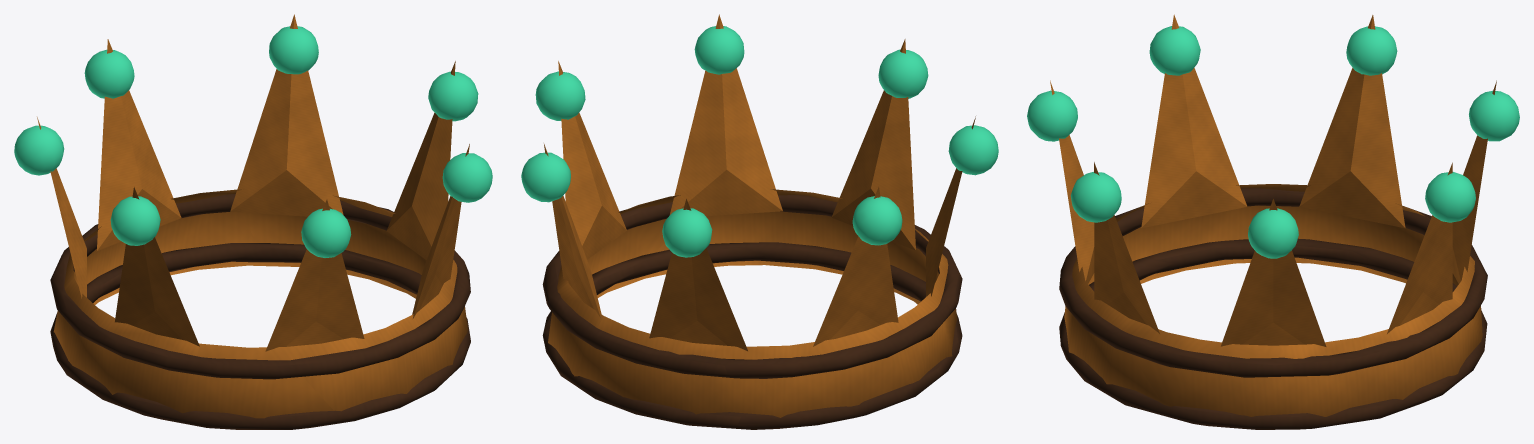
File: relic_07_low.glb
3 views of the same model, side by side, from view 1: azimuth 30°, elevation 25°; view 2: azimuth 150°, elevation 25°; view 3: azimuth 270°, elevation 25° (orthographic). The views are drawn at different scales.
Visible parts, largest first — view 1: Brushed_gold, Patinated_bronze, Cut_emerald; view 2: Brushed_gold, Patinated_bronze, Cut_emerald; view 3: Brushed_gold, Patinated_bronze, Cut_emerald.
Boxes of the visible parts, bbox=[...] form: Brushed_gold: bbox=[37, 14, 469, 418]; Patinated_bronze: bbox=[50, 194, 470, 429]; Cut_emerald: bbox=[14, 26, 492, 257]; Brushed_gold: bbox=[544, 14, 975, 417]; Patinated_bronze: bbox=[542, 195, 962, 429]; Cut_emerald: bbox=[521, 26, 998, 257]; Brushed_gold: bbox=[1050, 14, 1496, 416]; Patinated_bronze: bbox=[1059, 188, 1487, 429]; Cut_emerald: bbox=[1027, 26, 1519, 258].
Size of the model in its own units: 0.7547 by 0.4225 by 0.7723.
Materials: 3 (2 with a texture image).
